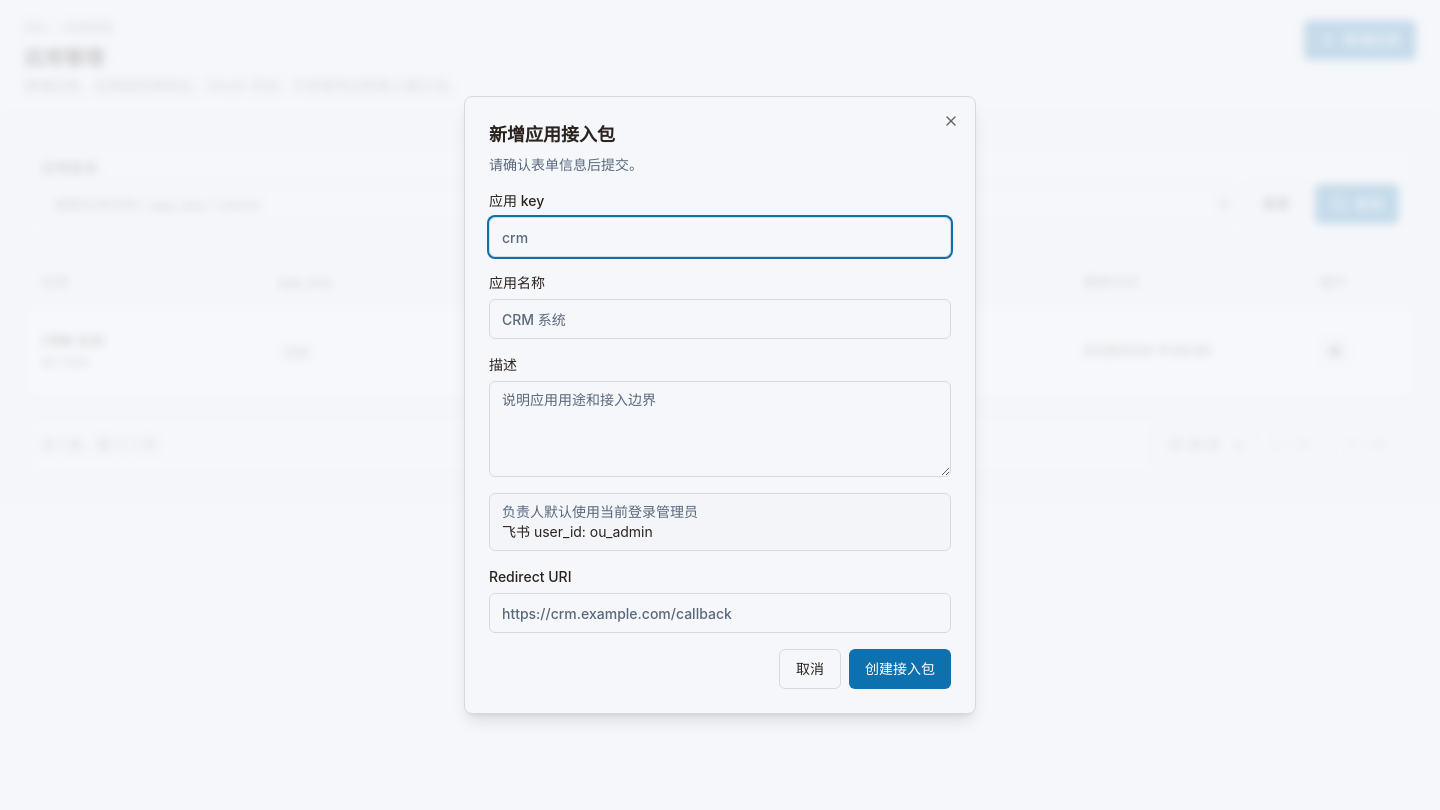
ApplicationManagementPage v0.11.2 › shows one-time secrets after create without serializing them into url
This screenshot has width=1440, height=810.
Type "erp" into the field labelled "应用 key".
click(720, 237); type("erp")  # box [489,217,951,257]
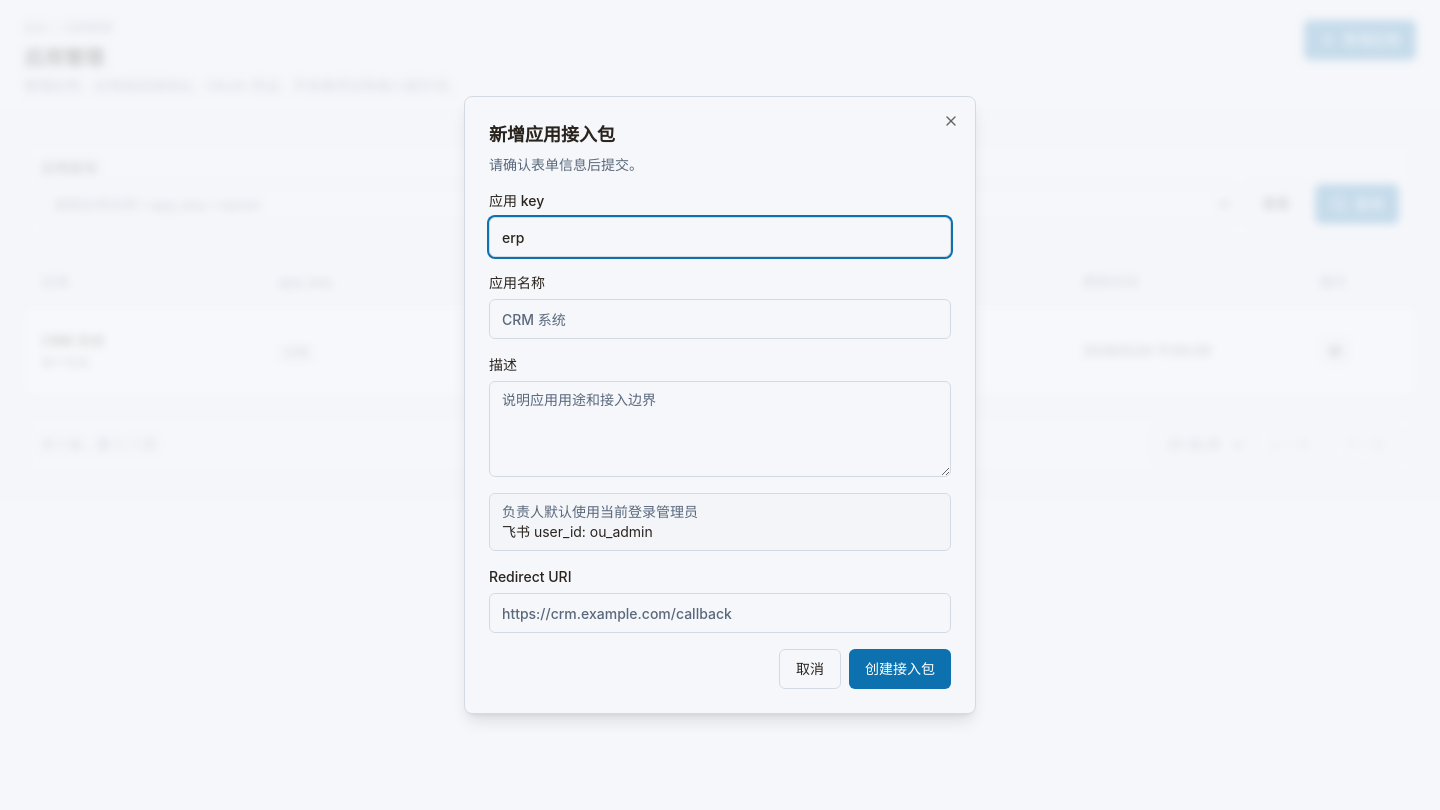
Type "ERP 系统" into the field labelled "应用名称".
click(720, 319); type("ERP 系统")  # box [489,299,951,339]
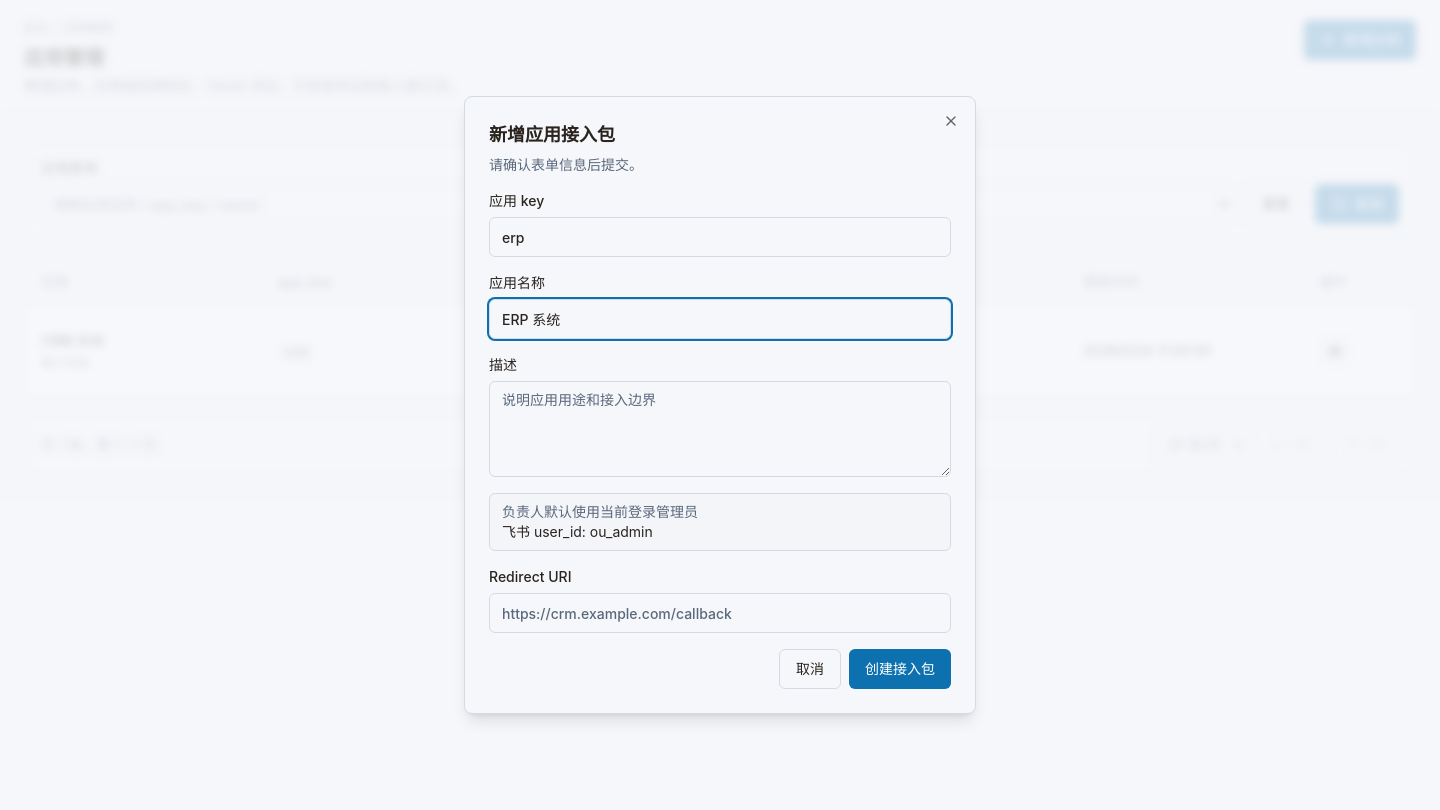
Type "https://erp.example.com/callback" into the field labelled "Redirect URI".
click(720, 613); type("https://erp.example.com/callback")  # box [489,593,951,633]
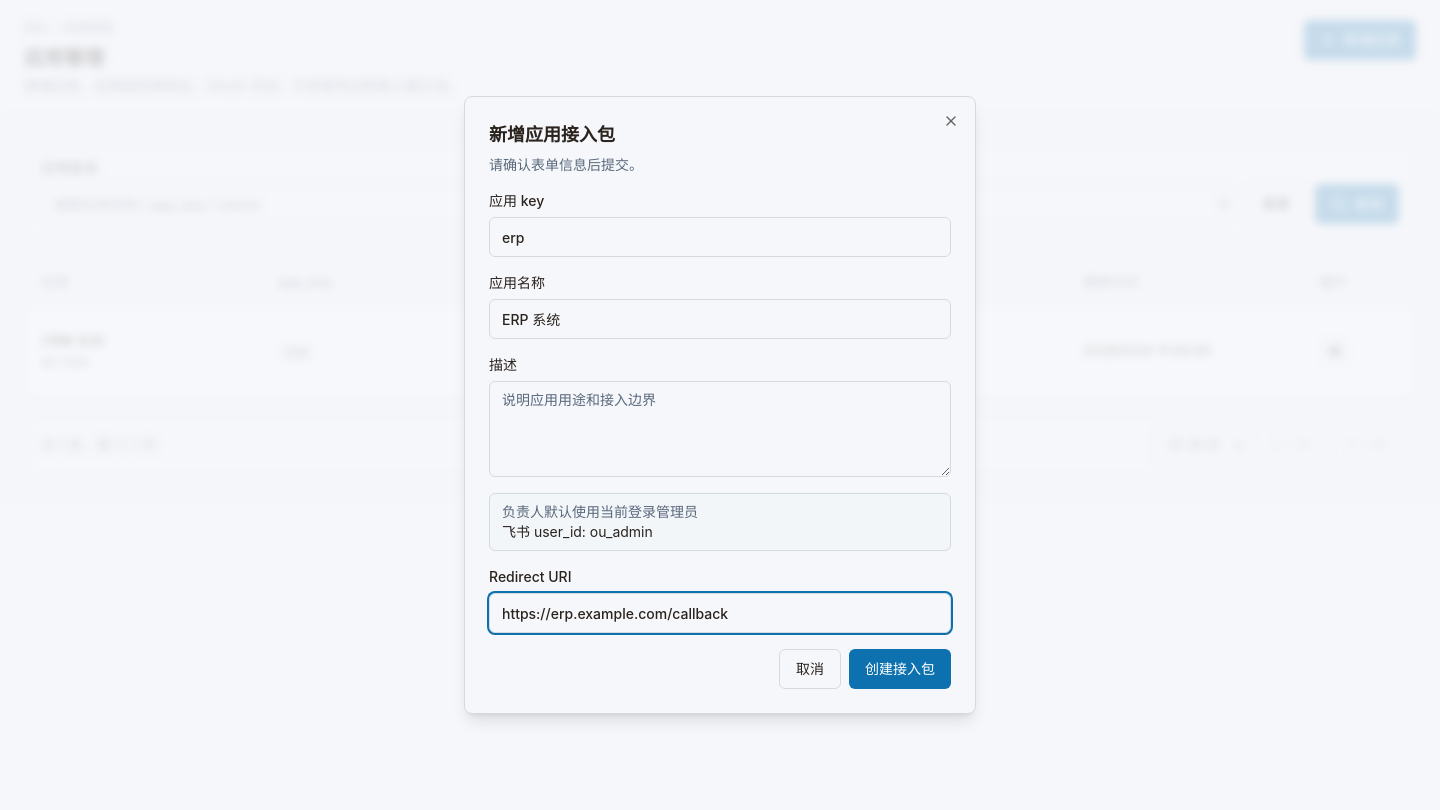
Click the button "创建接入包".
click(900, 669)  # box [849,649,951,689]
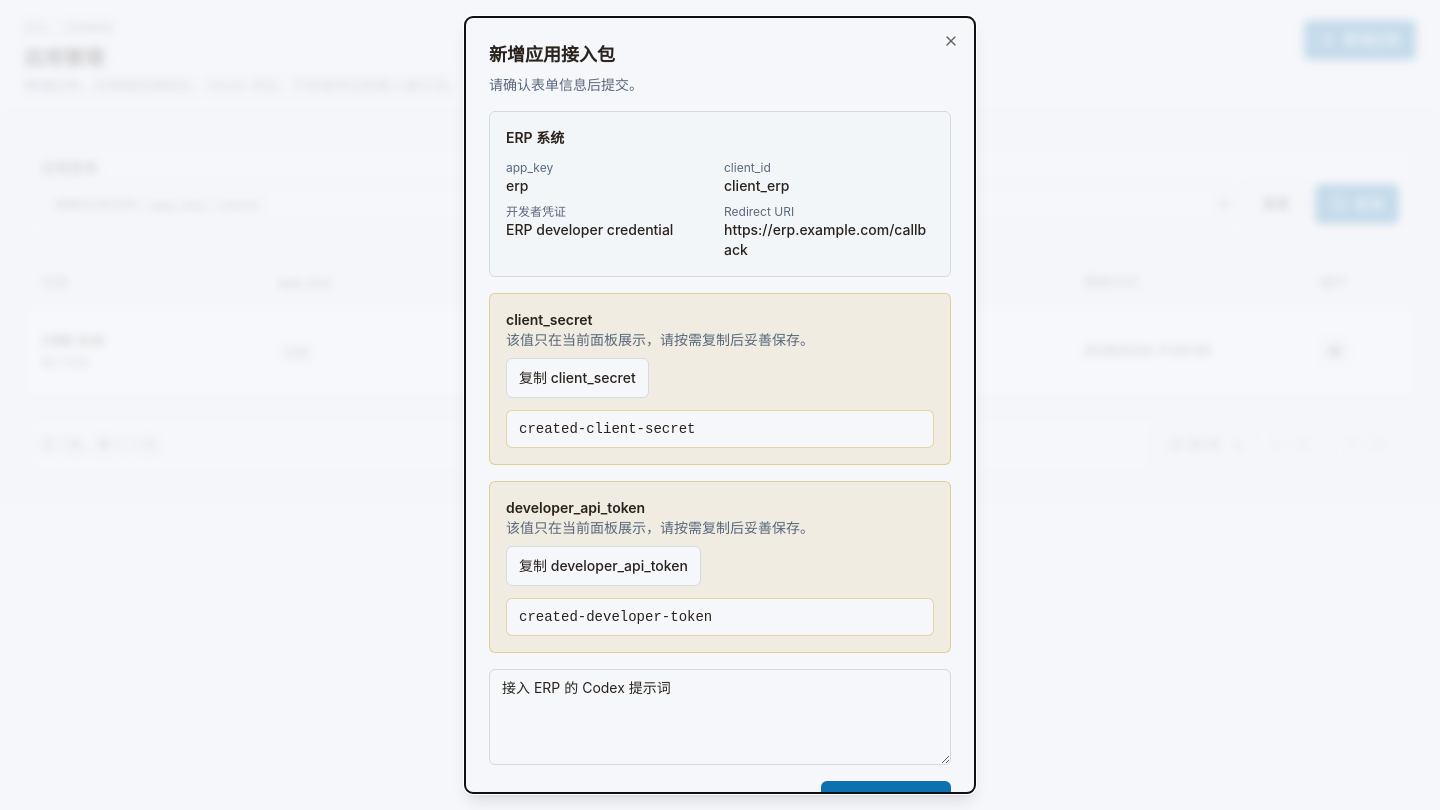
Expected: the text "created-client-secret" is shown, [506,410,934,448]
Expected: the text "created-developer-token" is shown, [506,598,934,636]
